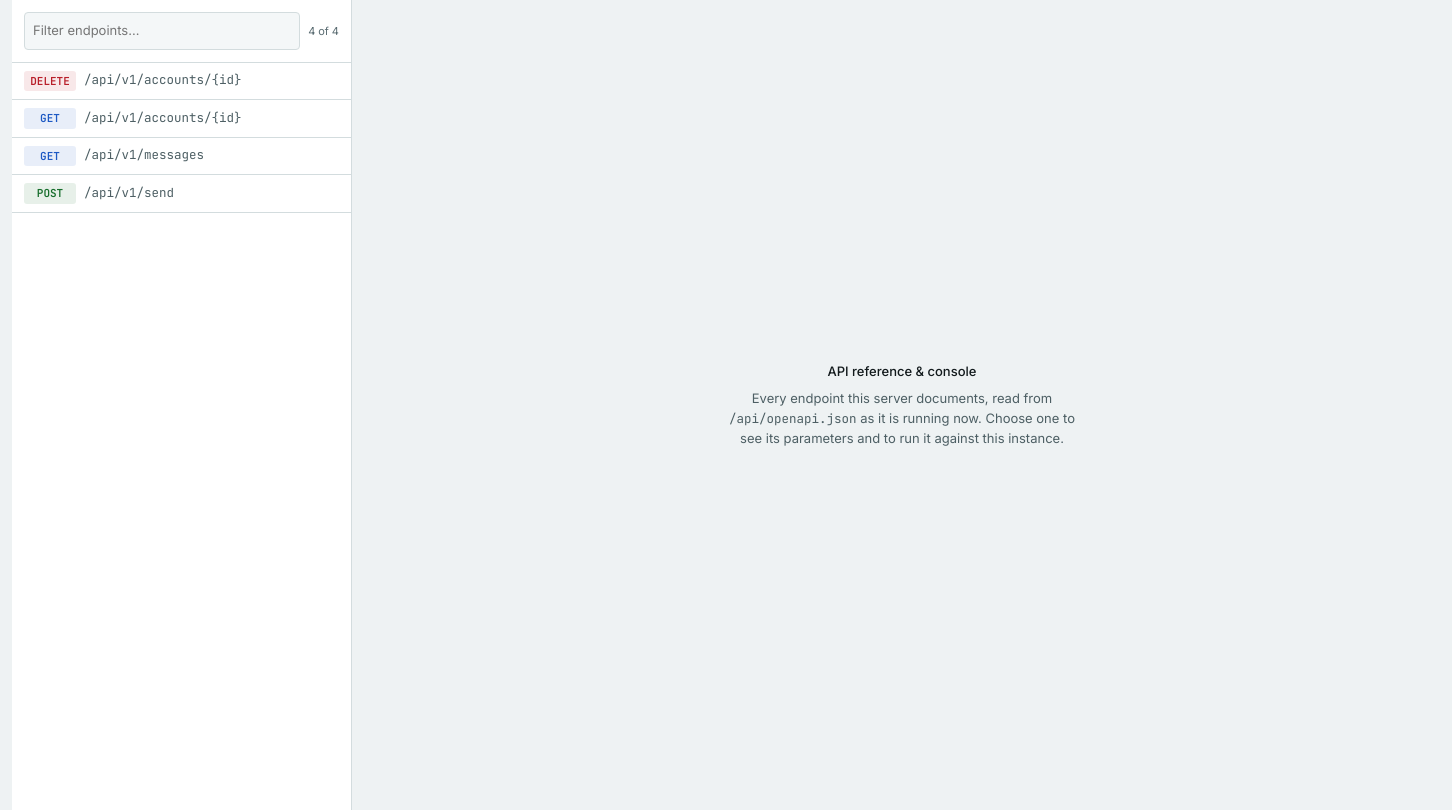
executing a request › shows an error status rather than hiding it
Check: the text "4 of 4" is shown, box [308,22,339,39]
Click the text "/api/v1/messages".
click(144, 156)  # box [84,146,204,165]
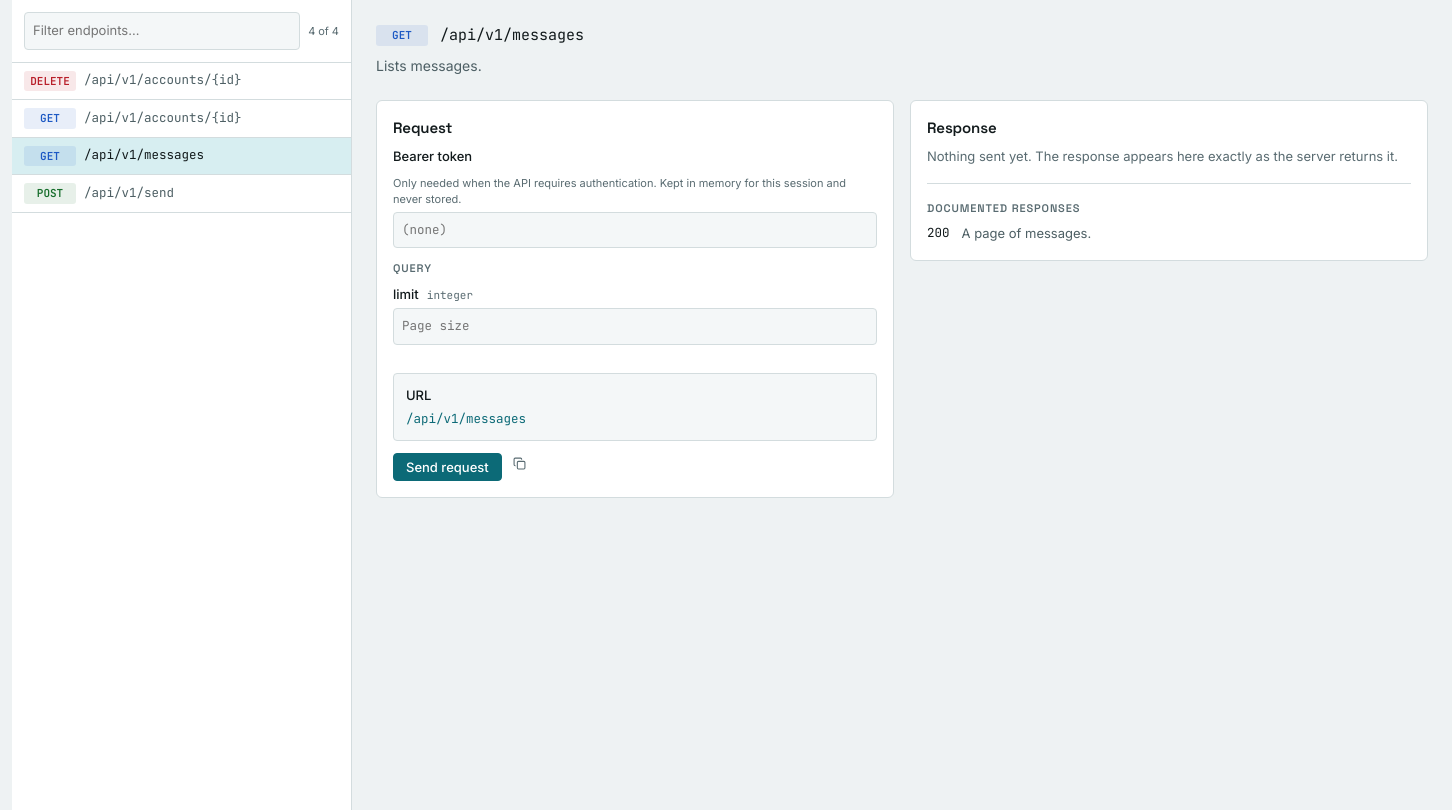
Click the button "Send request".
click(447, 467)  # box [393,453,502,481]
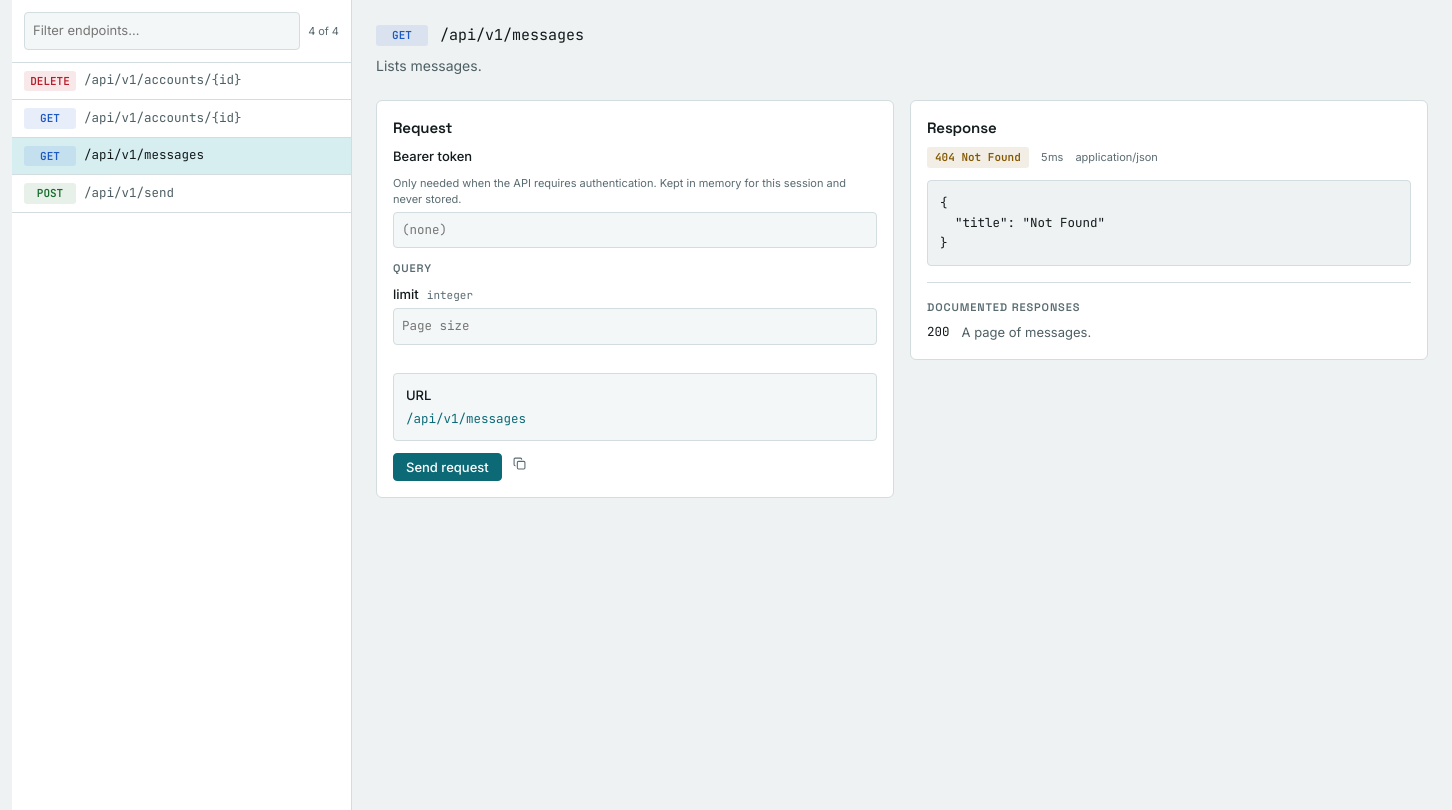
Check: the text "404 Not Found" is shown, box [927,147,1029,168]
